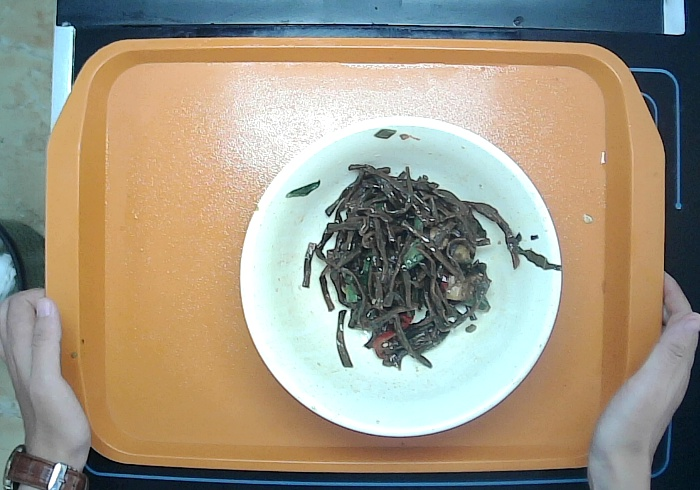ZNLD-Da_Tang_Wan: (234, 113, 563, 446)
